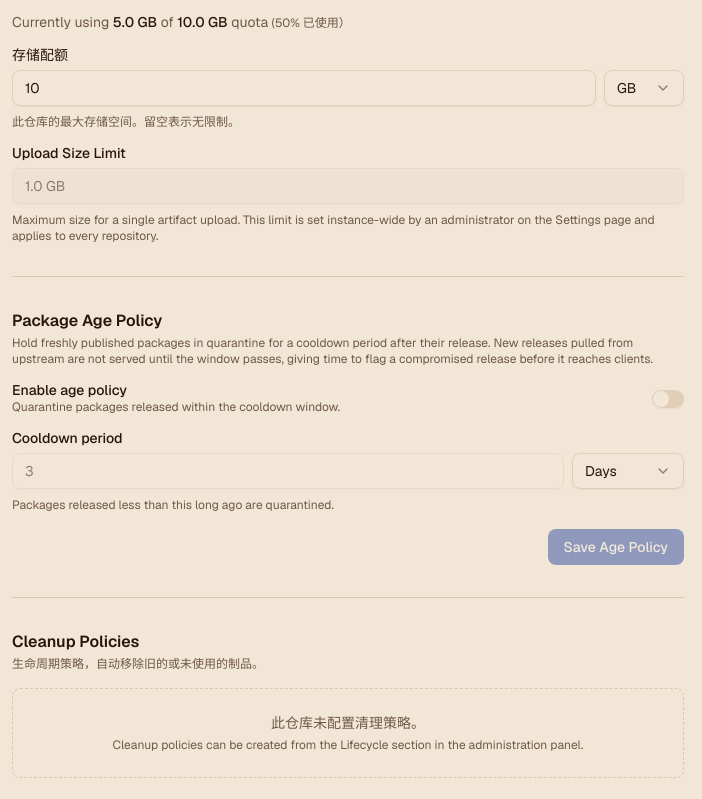
Test: RepoSettingsTab - Package Age Policy (#265) › disables save and shows an error when the duration is invalid
(page scrolled)
Click the switch named "Enable age policy": [668, 399] box [652,390,684,408]
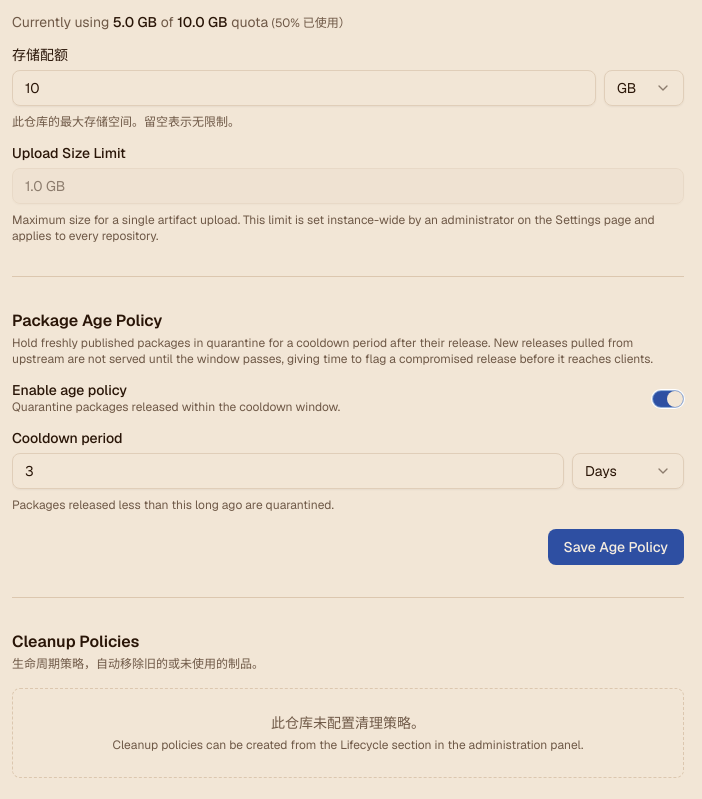
Clear the number field labelled "Cooldown period": [288, 471] box [12,453,564,489]
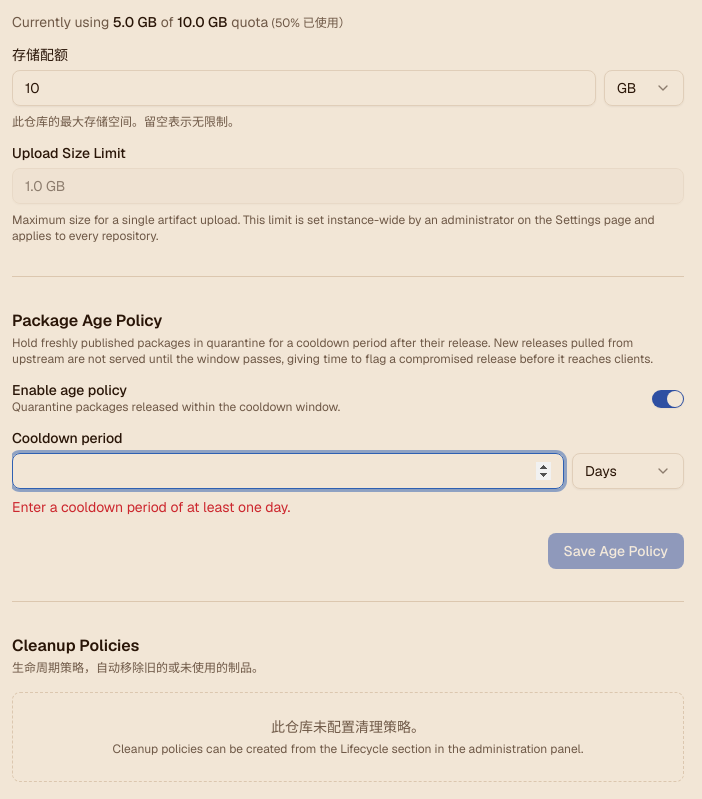
Result: the button "Save Age Policy" is disabled at [548,533,684,569]
